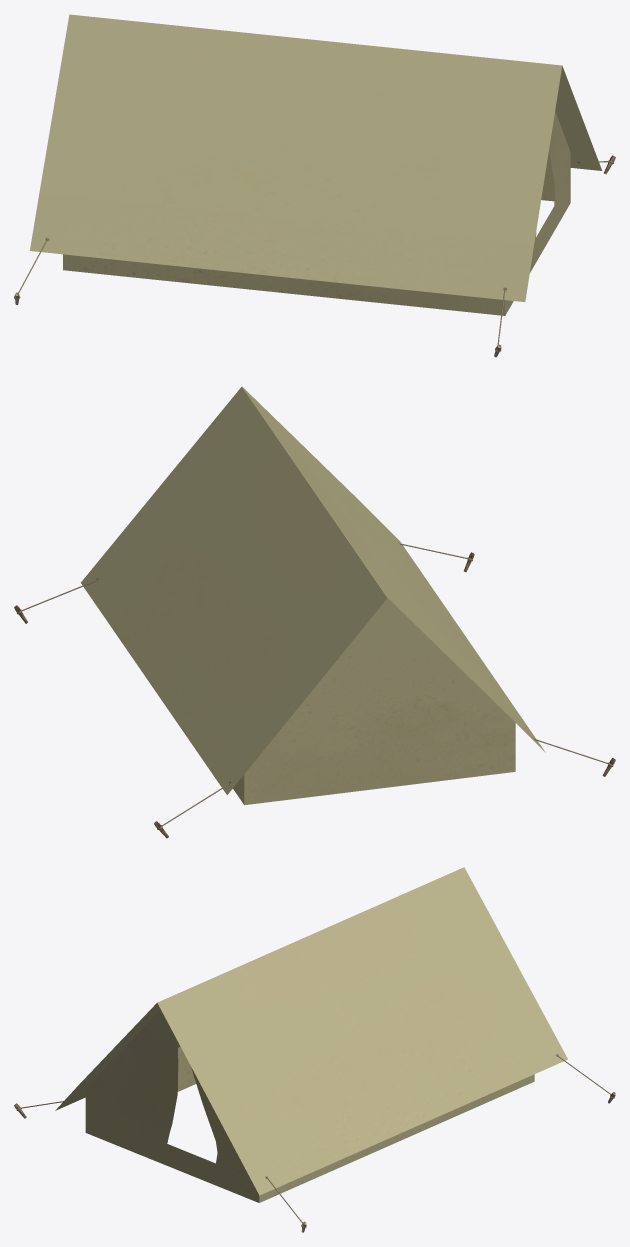
The model's file is tent.fbx.
The picture shows the model from 3 angles, top to bottom: view 1: azimuth 30°, elevation 25°; view 2: azimuth 150°, elevation 25°; view 3: azimuth 270°, elevation 25°; orthographic projection. The views are drawn at different scales.
Parts seen in each view (by area): view 1: camp1; view 2: camp1; view 3: camp1.
Part boxes in pixels (x1,y1,x2,y2): camp1: [14, 14, 615, 357]; camp1: [14, 386, 615, 838]; camp1: [14, 867, 615, 1232].
Size of the model in its own units: 42.61 by 14.11 by 42.83.
